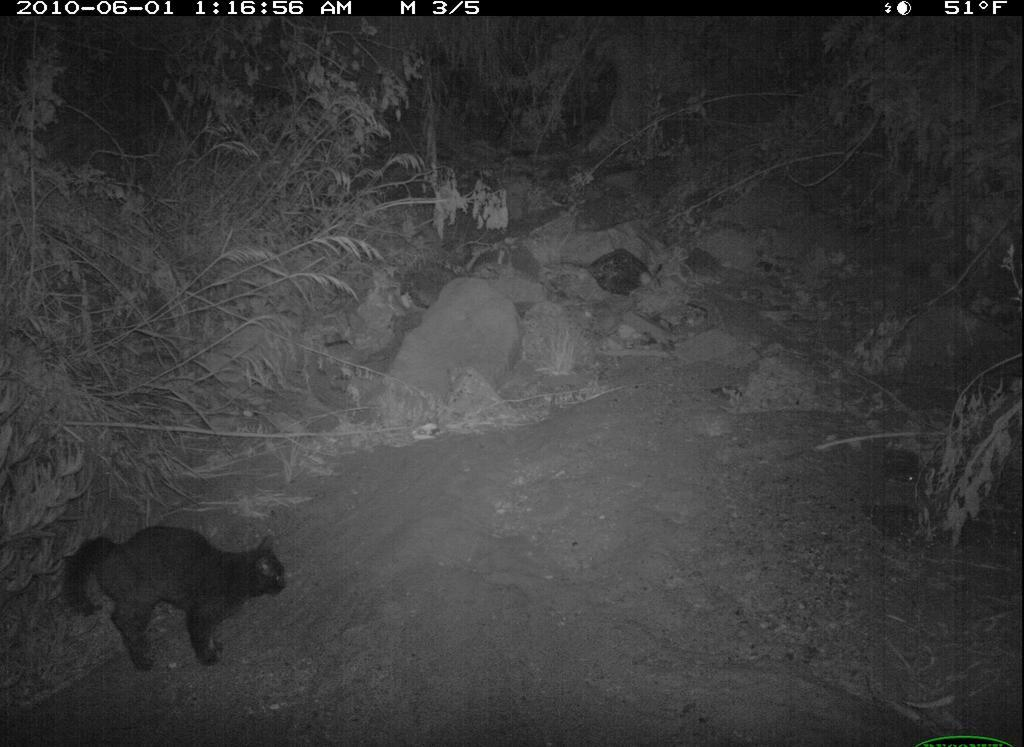cat: (38, 524, 294, 689)
